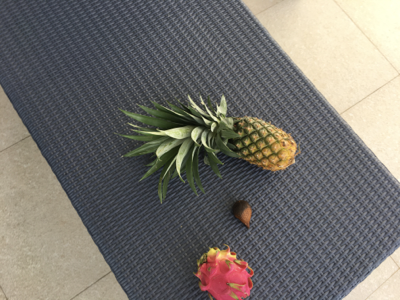dragon fruit: (195, 245, 257, 300)
pineapple: (118, 94, 299, 195)
snake fruit: (232, 200, 254, 230)
